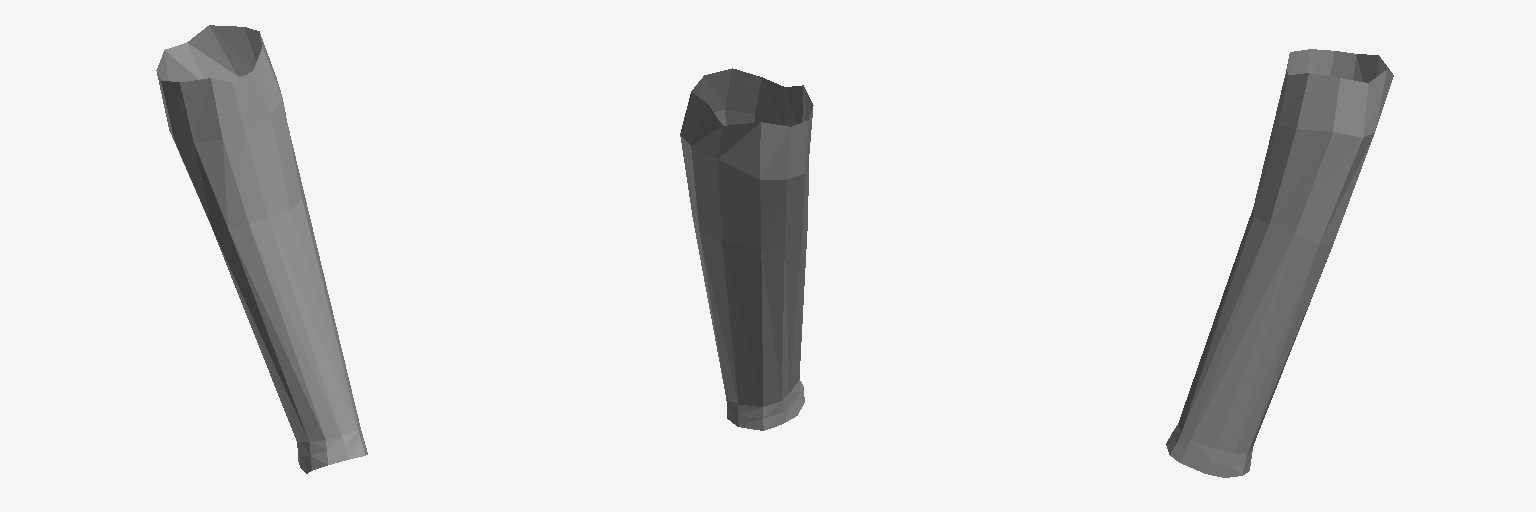
File: rightarm.obj
3 views of the same model, side by side, from view 1: azimuth 30°, elevation 25°; view 2: azimuth 150°, elevation 25°; view 3: azimuth 270°, elevation 25° (orthographic).
Visible parts, largest first — view 1: Patrick.006_Patrick.001; view 2: Patrick.006_Patrick.001; view 3: Patrick.006_Patrick.001.
Part boxes in pixels (left/top/right/bottom): Patrick.006_Patrick.001: left=156, top=25, right=367, bottom=473; Patrick.006_Patrick.001: left=680, top=68, right=813, bottom=430; Patrick.006_Patrick.001: left=1166, top=49, right=1393, bottom=477.
Bounding box in the file's own units: 0.1219 × 0.3343 × 0.1778.